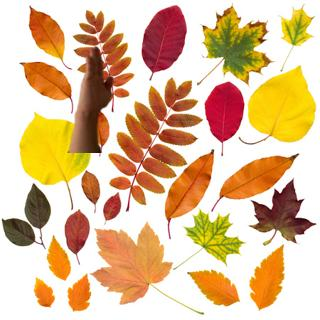RIGHT: (71, 44, 120, 124)
